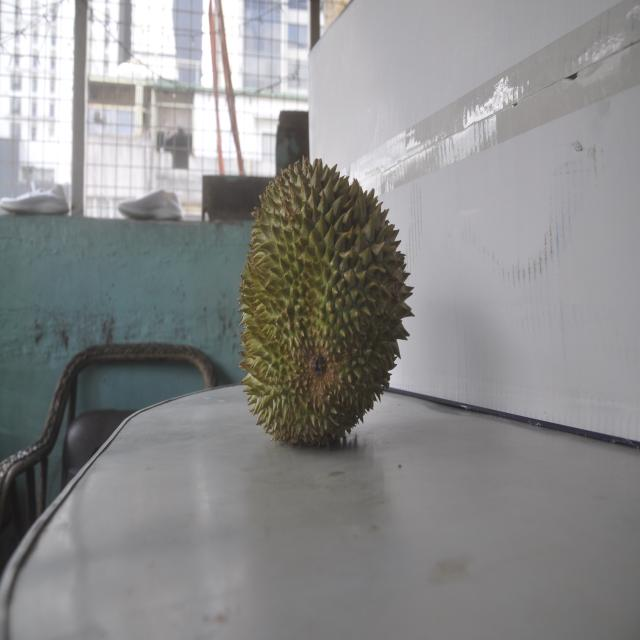mature: (238, 154, 405, 446)
